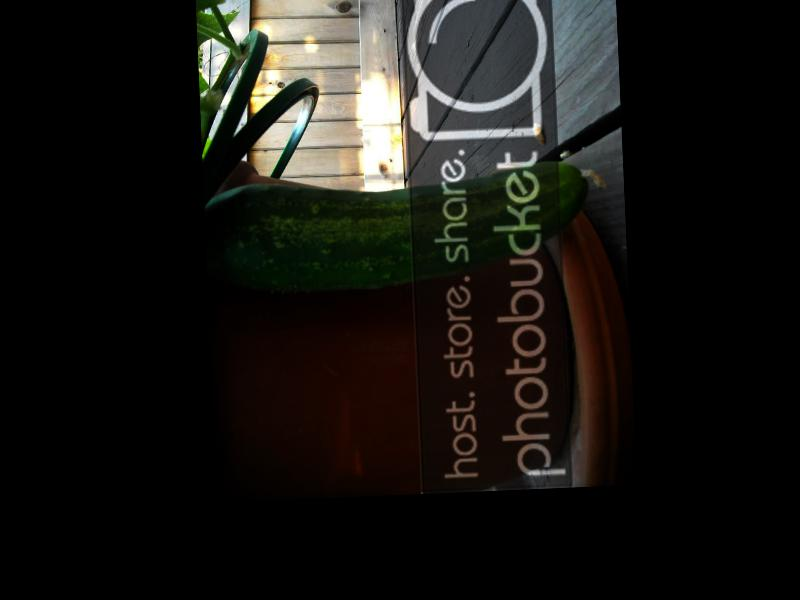Cucumber: (207, 159, 608, 296)
